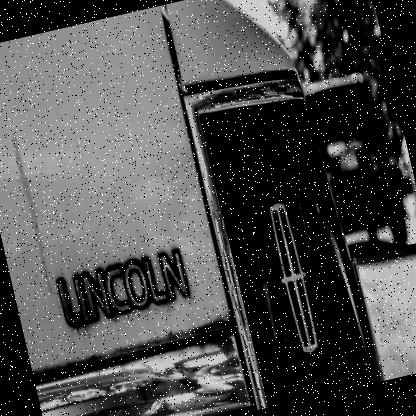Car: (0, 0, 383, 415), (303, 68, 415, 262)
